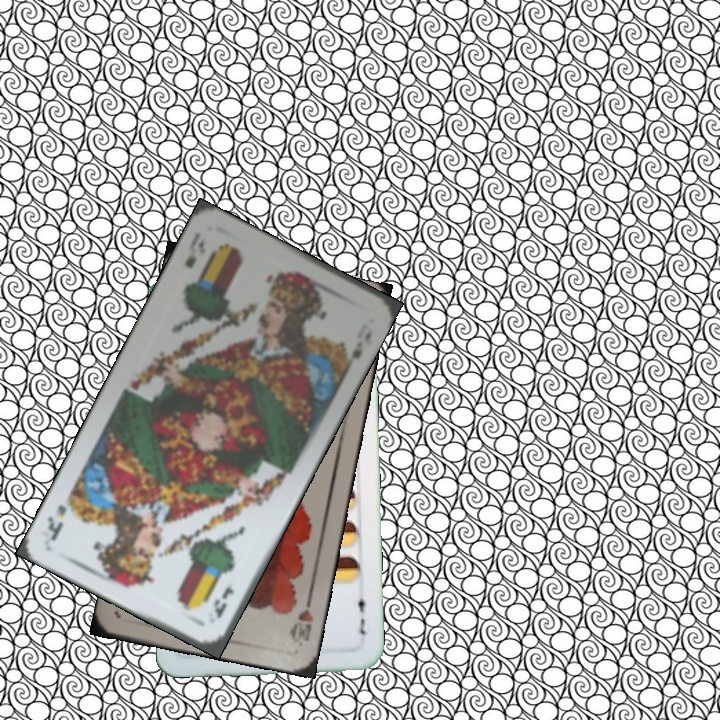E7: (354, 587, 369, 637)
EK: (180, 228, 208, 271), (209, 582, 237, 622)
H10: (286, 590, 316, 649)
